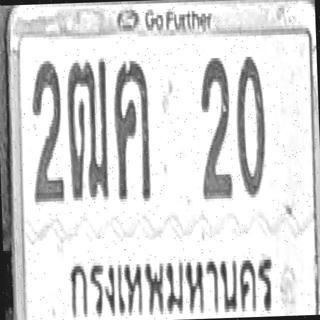A04: (112, 59, 152, 200)
A18: (65, 56, 110, 200)
N00: (233, 53, 268, 198)
N02: (29, 59, 64, 203), (198, 56, 232, 197)
P04: (65, 244, 278, 320)
